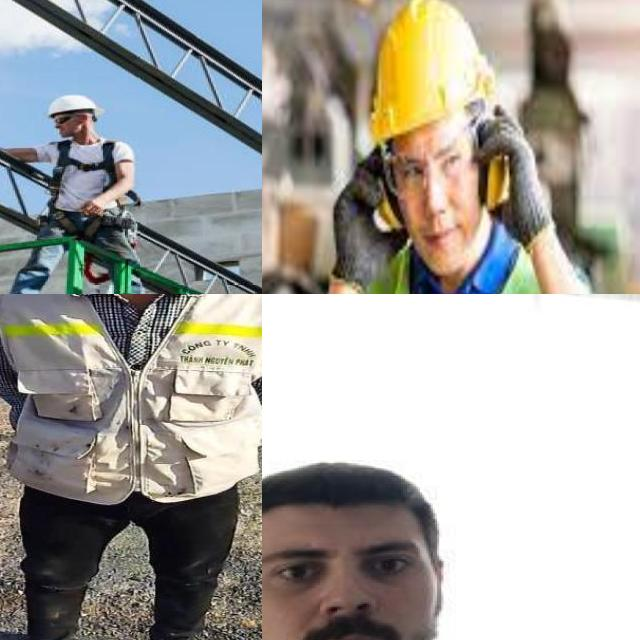Ear-protection: (360, 105, 515, 293)
Harness: (50, 141, 117, 208)
No_Glasses: (262, 535, 433, 596)
face_nomask: (262, 532, 435, 640)
head_nohelmet: (262, 461, 456, 533)
person: (0, 294, 262, 640)
